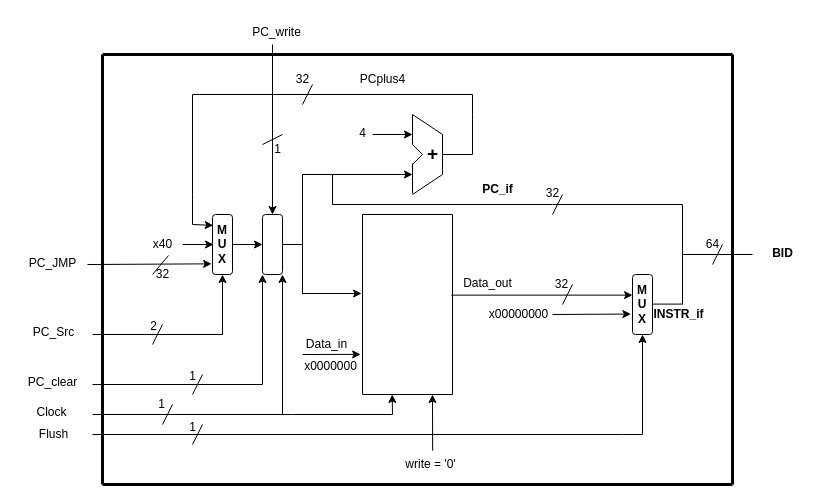
This 819x504 diagram has some shape labels left out. Here are the shapes that lost their labels. From the top down, the centre of each, then its label:
At (272,244): "P C".
At (407,304): "imem".
